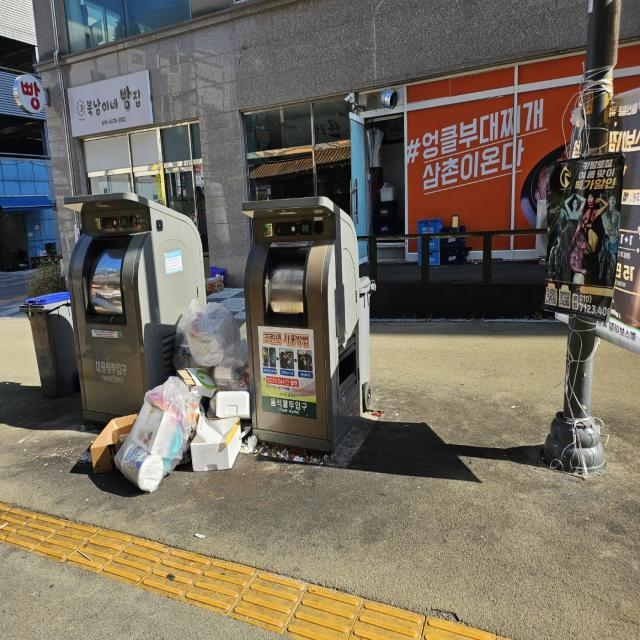CleanNet: (63, 193, 207, 430), (238, 198, 364, 448)
General Waste: (100, 392, 246, 484), (172, 306, 250, 462)
